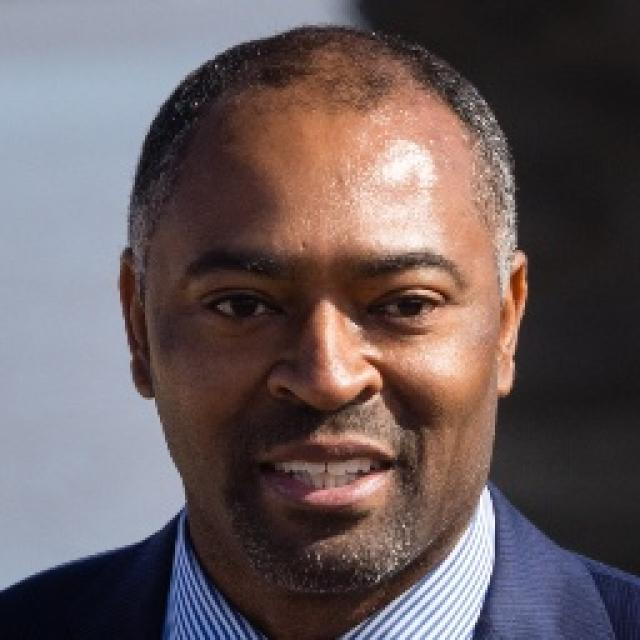earlobe: (126, 342, 155, 401), (496, 339, 517, 395)
eye: (378, 293, 442, 320), (208, 292, 274, 318)
nose: (274, 392, 376, 430)
wholeear: (117, 246, 156, 400), (498, 252, 526, 395)
